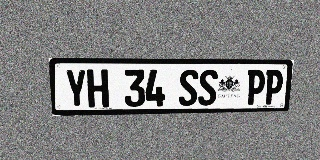3: (124, 69, 145, 107)
4: (145, 69, 165, 107)
H: (87, 69, 109, 108)
P: (245, 70, 266, 105), (263, 70, 284, 105)
S: (178, 70, 199, 106), (198, 70, 218, 106)
Y: (64, 69, 88, 108)
